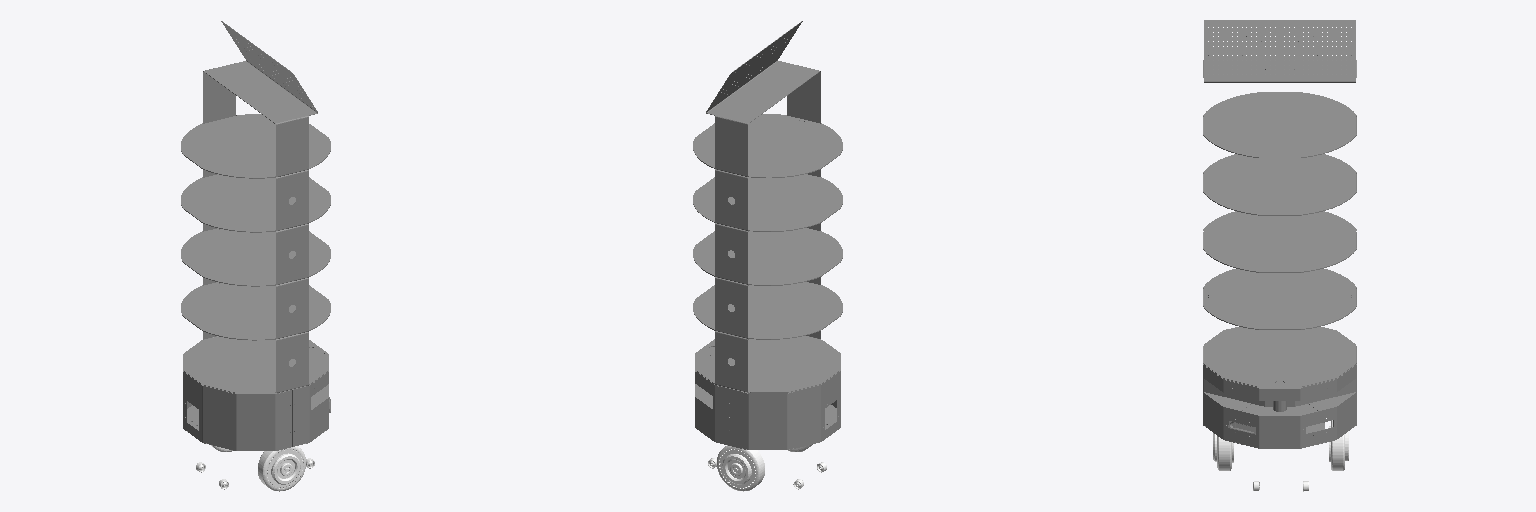
robot.urdf — reemen-clone:
<?xml version="1.0" encoding="utf-8"?>
<!-- This URDF was automatically created by SolidWorks to URDF Exporter! Originally created by Stephen Brawner (brawner@gmail.com) 
     Commit Version: 1.6.0-4-g7f85cfe  Build Version: 1.6.7995.38578
     For more information, please see http://wiki.ros.org/sw_urdf_exporter -->
<robot
  name="reemen-clone">
  <link
    name="base_link">
    <inertial>
      <origin
        xyz="-0.006381 0.0039481 0.0009"
        rpy="0 0 0" />
      <mass
        value="0.2471" />
      <inertia
        ixx="0.0033314"
        ixy="-3.3441E-08"
        ixz="-4.1779E-18"
        iyy="0.0049517"
        iyz="-2.0567E-19"
        izz="0.008283" />
    </inertial>
    <visual>
      <origin
        xyz="0 0 0"
        rpy="0 0 0" />
      <geometry>
        <mesh
          filename="package://reeman_clone_description/meshes/base_link.STL" />
      </geometry>
      <material
        name="">
        <color
          rgba="0.62745 0.62745 0.62745 1" />
      </material>
    </visual>
    <collision>
      <origin
        xyz="0 0 0"
        rpy="0 0 0" />
      <geometry>
        <mesh
          filename="package://reeman_clone_description/meshes/base_link.STL" />
      </geometry>
    </collision>
  </link>
  <link
    name="right_wheel_link">
    <inertial>
      <origin
        xyz="-1.22238889496695E-09 0.00261076778922065 1.06166525570828E-09"
        rpy="0 0 0" />
      <mass
        value="1.13468316605061" />
      <inertia
        ixx="0.00214377738340467"
        ixy="1.90141727129734E-09"
        ixz="-8.50793852563956E-12"
        iyy="0.00371288553259231"
        iyz="-9.49731061124577E-10"
        izz="0.00214377736881791" />
    </inertial>
    <visual>
      <origin
        xyz="0 0 0"
        rpy="0 0 0" />
      <geometry>
        <mesh
          filename="package://reeman_clone_description/meshes/right_wheel_link.STL" />
      </geometry>
      <material
        name="">
        <color
          rgba="1 1 1 1" />
      </material>
    </visual>
    <collision>
      <origin
        xyz="0 0 0"
        rpy="0 0 0" />
      <geometry>
        <mesh
          filename="package://reeman_clone_description/meshes/right_wheel_link.STL" />
      </geometry>
    </collision>
  </link>
  <joint
    name="right_wheel_joint"
    type="continuous">
    <origin
      xyz="-0.000612714327570671 -0.178737474015559 -0.0067060362648815"
      rpy="0 0 0" />
    <parent
      link="base_link" />
    <child
      link="right_wheel_link" />
    <axis
      xyz="0 1 0" />
  </joint>
  <link
    name="left_wheel_link">
    <inertial>
      <origin
        xyz="1.56960827668584E-09 -0.00261076778922059 -3.97111538097406E-10"
        rpy="0 0 0" />
      <mass
        value="1.1346831660506" />
      <inertia
        ixx="0.00214377738155265"
        ixy="1.86551956893084E-09"
        ixz="-9.79641792816089E-12"
        iyy="0.00371288553259228"
        iyz="-1.0184368717158E-09"
        izz="0.0021437773706699" />
    </inertial>
    <visual>
      <origin
        xyz="0 0 0"
        rpy="0 0 0" />
      <geometry>
        <mesh
          filename="package://reeman_clone_description/meshes/left_wheel_link.STL" />
      </geometry>
      <material
        name="">
        <color
          rgba="1 1 1 1" />
      </material>
    </visual>
    <collision>
      <origin
        xyz="0 0 0"
        rpy="0 0 0" />
      <geometry>
        <mesh
          filename="package://reeman_clone_description/meshes/left_wheel_link.STL" />
      </geometry>
    </collision>
  </link>
  <joint
    name="left_wheel_joint"
    type="continuous">
    <origin
      xyz="-0.00111271860764666 0.186733072210104 -0.0067060362648807"
      rpy="0 0 0" />
    <parent
      link="base_link" />
    <child
      link="left_wheel_link" />
    <axis
      xyz="0 1 0" />
  </joint>
  <link
    name="front_right_caster_link">
    <inertial>
      <origin
        xyz="9.80282521823028E-12 3.37561645302742E-11 -1.03845265719826E-11"
        rpy="0 0 0" />
      <mass
        value="0.0103871549572359" />
      <inertia
        ixx="9.72294235682643E-07"
        ixy="5.19022156708706E-09"
        ixz="4.6110233329234E-15"
        iyy="1.47607253400214E-06"
        iyz="4.47572669905215E-13"
        izz="9.72240768629537E-07" />
    </inertial>
    <visual>
      <origin
        xyz="0 0 0"
        rpy="0 0 0" />
      <geometry>
        <mesh
          filename="package://reeman_clone_description/meshes/front_right_caster_link.STL" />
      </geometry>
      <material
        name="">
        <color
          rgba="1 1 1 1" />
      </material>
    </visual>
    <collision>
      <origin
        xyz="0 0 0"
        rpy="0 0 0" />
      <geometry>
        <mesh
          filename="package://reeman_clone_description/meshes/front_right_caster_link.STL" />
      </geometry>
    </collision>
  </link>
  <joint
    name="front_right_caster_joint"
    type="fixed">
    <origin
      xyz="0.16615 -0.074374 -0.076"
      rpy="0 0 0" />
    <parent
      link="base_link" />
    <child
      link="front_right_caster_link" />
    <axis
      xyz="0 0 0" />
  </joint>
  <link
    name="front_left_caster_link">
    <inertial>
      <origin
        xyz="0 2.77555756156289E-17 0"
        rpy="0 0 0" />
      <mass
        value="0.0103871549572359" />
      <inertia
        ixx="9.7503779582315E-07"
        ixy="-3.74373788735228E-08"
        ixz="-1.59185679989932E-14"
        iyy="1.4733289738613E-06"
        iyz="2.13068500263688E-13"
        izz="9.72240768629193E-07" />
    </inertial>
    <visual>
      <origin
        xyz="0 0 0"
        rpy="0 0 0" />
      <geometry>
        <mesh
          filename="package://reeman_clone_description/meshes/front_left_caster_link.STL" />
      </geometry>
      <material
        name="">
        <color
          rgba="1 1 1 1" />
      </material>
    </visual>
    <collision>
      <origin
        xyz="0 0 0"
        rpy="0 0 0" />
      <geometry>
        <mesh
          filename="package://reeman_clone_description/meshes/front_left_caster_link.STL" />
      </geometry>
    </collision>
  </link>
  <joint
    name="front_left_caster_joint"
    type="fixed">
    <origin
      xyz="0.16674791871922 0.0817655257441773 -0.0760000000000003"
      rpy="0 0 0" />
    <parent
      link="base_link" />
    <child
      link="front_left_caster_link" />
    <axis
      xyz="0 0 0" />
  </joint>
  <link
    name="back_right_caster_link">
    <inertial>
      <origin
        xyz="0 1.38777878078145E-17 -2.77555756156289E-17"
        rpy="0 0 0" />
      <mass
        value="0.0103871549572359" />
      <inertia
        ixx="9.81214153150242E-07"
        ixy="6.66410857927456E-08"
        ixz="3.42446508638621E-23"
        iyy="1.4671526165342E-06"
        iyz="9.21100098637752E-23"
        izz="9.72240768629191E-07" />
    </inertial>
    <visual>
      <origin
        xyz="0 0 0"
        rpy="0 0 0" />
      <geometry>
        <mesh
          filename="package://reeman_clone_description/meshes/back_right_caster_link.STL" />
      </geometry>
      <material
        name="">
        <color
          rgba="1 1 1 1" />
      </material>
    </visual>
    <collision>
      <origin
        xyz="0 0 0"
        rpy="0 0 0" />
      <geometry>
        <mesh
          filename="package://reeman_clone_description/meshes/back_right_caster_link.STL" />
      </geometry>
    </collision>
  </link>
  <joint
    name="back_right_caster_joint"
    type="fixed">
    <origin
      xyz="-0.16677 -0.073778 -0.076"
      rpy="0 0 0" />
    <parent
      link="base_link" />
    <child
      link="back_right_caster_link" />
    <axis
      xyz="0 0 0" />
  </joint>
  <link
    name="back_left_caster_link">
    <inertial>
      <origin
        xyz="0 0 0"
        rpy="0 0 0" />
      <mass
        value="0" />
      <inertia
        ixx="0"
        ixy="0"
        ixz="0"
        iyy="0"
        iyz="0"
        izz="0" />
    </inertial>
    <visual>
      <origin
        xyz="0 0 0"
        rpy="0 0 0" />
      <geometry>
        <mesh
          filename="package://reeman_clone_description/meshes/back_left_caster_link.STL" />
      </geometry>
      <material
        name="">
        <color
          rgba="1 1 1 1" />
      </material>
    </visual>
    <collision>
      <origin
        xyz="0 0 0"
        rpy="0 0 0" />
      <geometry>
        <mesh
          filename="package://reeman_clone_description/meshes/back_left_caster_link.STL" />
      </geometry>
    </collision>
  </link>
  <joint
    name="back_left_caster_joint"
    type="fixed">
    <origin
      xyz="-0.166770030766659 0.0817624983187506 -0.0760000000000006"
      rpy="0 0 0" />
    <parent
      link="base_link" />
    <child
      link="back_left_caster_link" />
    <axis
      xyz="0 0 0" />
  </joint>
</robot>

--- What the picture shows (computed from the rendered views, not written in the file) ---
The picture shows the robot from 3 angles, left to right: view 1: azimuth 30°, elevation 25°; view 2: azimuth 150°, elevation 25°; view 3: azimuth 270°, elevation 25°; orthographic projection.
Model reemen-clone with 7 links and 6 joints (2 continuous, 4 fixed), rooted at base_link, posed every joint at zero.
Visible links, largest first — view 1: base_link, right_wheel_link; view 2: base_link, left_wheel_link; view 3: base_link, left_wheel_link, right_wheel_link.
Boxes of the visible links, x1=… form: base_link: x1=181, y1=21, x2=330, y2=450; right_wheel_link: x1=258, y1=446, x2=305, y2=491; base_link: x1=693, y1=21, x2=842, y2=449; left_wheel_link: x1=717, y1=445, x2=764, y2=491; base_link: x1=1203, y1=20, x2=1356, y2=448; left_wheel_link: x1=1329, y1=420, x2=1348, y2=470; right_wheel_link: x1=1213, y1=433, x2=1233, y2=470.
Size in the robot's own frame: 0.49 by 0.49 by 1.57 metres.
7 mesh visuals loaded from 7 distinct referenced files (7 binary STL).
